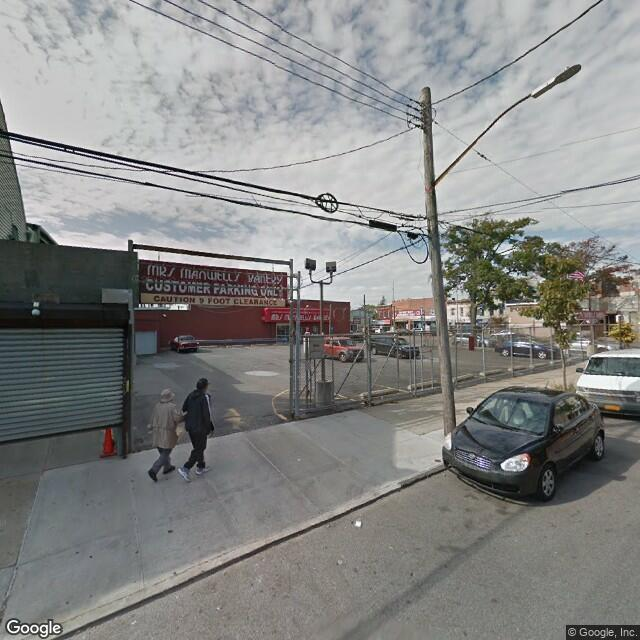litter: (353, 518, 365, 528), (335, 557, 348, 566), (214, 604, 224, 610), (434, 456, 444, 462), (295, 452, 303, 458), (131, 615, 137, 621)
